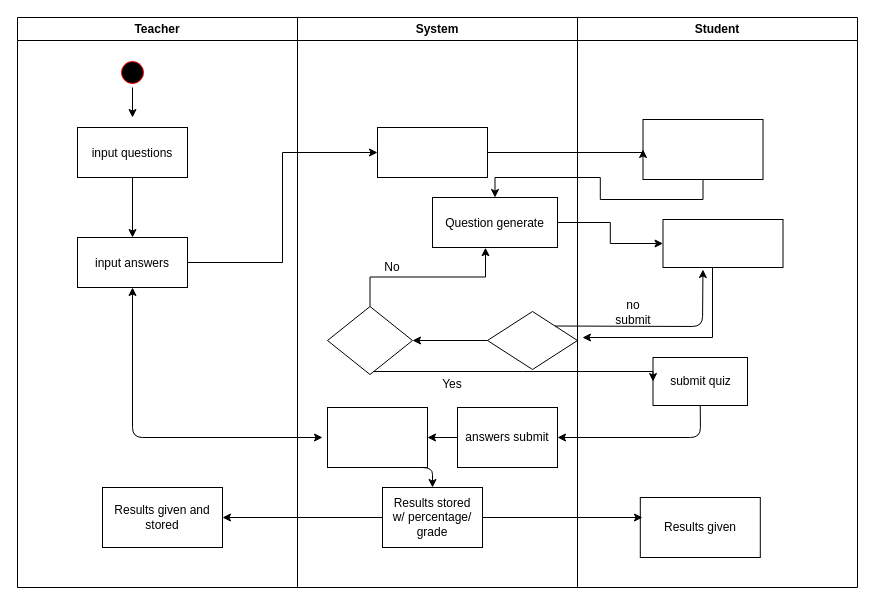
Some shapes in this 875 by 605 pixel diagram are drawn without their labels. The centre of each missing label's shape, as x and y in pixels:
Answer: pixel 722 243
answers compared: pixel 377 437
generate quiz (q&a): pixel 432 152
Initiate quiz: pixel 702 149
last question?: pixel 369 340
parse submit: pixel 532 340
